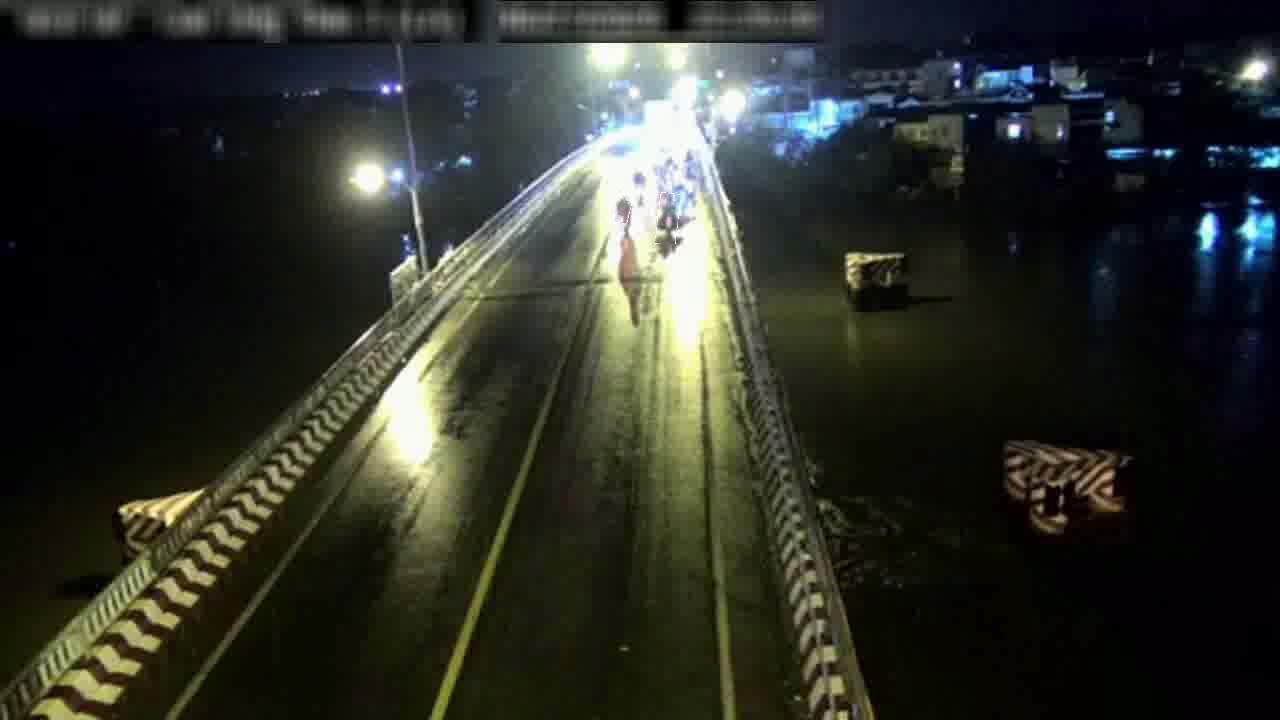motorbike: (656, 193, 680, 245), (609, 186, 633, 224)
